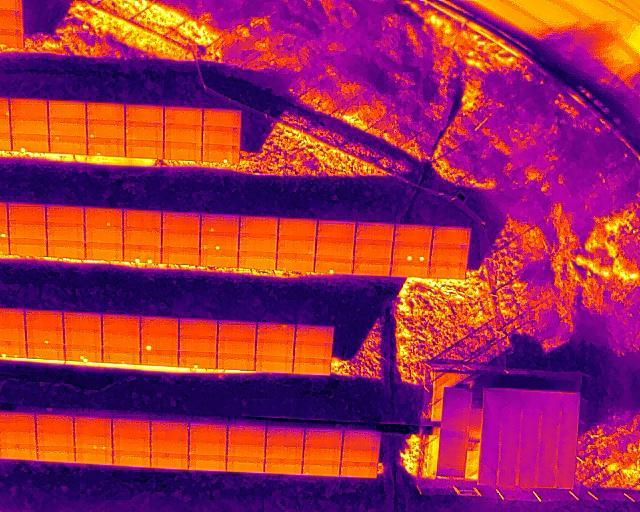Cell: (84, 208, 123, 228), (87, 119, 125, 138), (200, 214, 240, 232), (202, 144, 239, 163), (87, 139, 125, 156), (140, 334, 179, 350), (314, 258, 353, 274), (302, 460, 340, 476), (102, 348, 141, 363), (49, 137, 87, 152), (179, 352, 217, 367), (12, 135, 49, 150), (25, 330, 64, 344)
Cell-Multi: (199, 232, 239, 251), (123, 245, 161, 264), (392, 244, 432, 262), (66, 345, 103, 361), (75, 435, 113, 449), (0, 342, 26, 357)
No-Anomaly: (179, 319, 217, 340), (202, 125, 240, 145), (163, 106, 203, 125), (355, 224, 394, 243), (430, 244, 469, 263), (189, 424, 227, 443), (315, 223, 355, 241), (239, 234, 278, 252), (161, 229, 200, 247), (394, 227, 433, 245), (48, 118, 87, 136), (227, 426, 266, 444), (161, 247, 200, 265), (46, 223, 84, 241), (278, 220, 316, 238), (125, 123, 163, 141), (125, 104, 163, 122), (10, 100, 48, 118), (150, 452, 188, 470), (343, 431, 381, 449), (151, 421, 189, 439), (113, 420, 151, 438), (432, 227, 472, 244), (293, 341, 333, 358), (217, 322, 257, 339), (9, 221, 46, 239), (123, 228, 162, 245), (84, 228, 123, 245), (162, 212, 201, 229), (123, 210, 162, 227), (46, 206, 85, 223), (163, 125, 202, 142), (48, 101, 87, 118), (266, 428, 305, 445), (140, 317, 179, 334), (24, 312, 63, 329), (84, 243, 123, 260), (47, 241, 85, 258), (8, 204, 46, 221), (125, 141, 163, 158), (10, 118, 48, 135), (203, 108, 241, 125), (87, 102, 125, 119), (112, 450, 150, 467), (102, 331, 140, 348), (277, 254, 315, 271), (74, 418, 112, 435), (36, 415, 74, 432), (0, 414, 35, 432), (9, 238, 46, 255), (240, 218, 279, 234), (163, 143, 202, 159), (303, 445, 342, 461), (254, 355, 293, 371), (296, 326, 335, 342), (200, 251, 239, 267), (316, 242, 354, 258), (226, 457, 264, 473), (188, 455, 226, 471), (37, 447, 75, 463), (305, 430, 343, 446), (102, 315, 140, 331), (64, 313, 102, 329), (238, 252, 276, 268), (354, 243, 392, 259), (255, 340, 295, 355), (255, 325, 295, 340), (340, 462, 377, 478), (265, 458, 302, 474), (75, 449, 112, 465), (353, 260, 390, 276), (277, 238, 316, 253), (36, 432, 75, 447), (217, 339, 256, 354), (428, 263, 467, 278), (293, 359, 331, 374), (26, 344, 64, 359), (64, 330, 102, 345), (389, 262, 429, 276), (217, 354, 255, 368), (0, 445, 37, 459), (0, 431, 36, 445), (265, 445, 303, 458), (151, 439, 189, 452), (113, 437, 151, 450), (141, 351, 179, 364), (0, 310, 25, 329), (342, 449, 378, 462), (227, 444, 265, 456), (189, 443, 227, 455), (179, 340, 217, 352), (0, 329, 26, 342)
